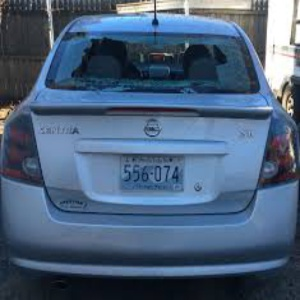rear_windshield_glass: (66, 40, 240, 83)
